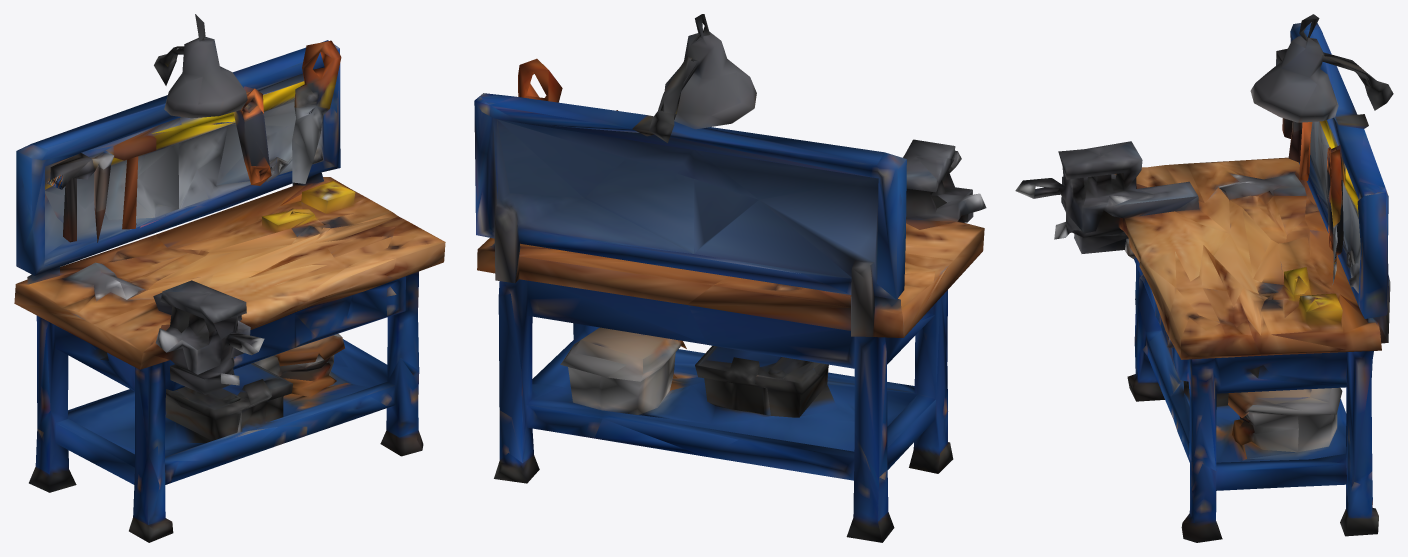
The model's file is tezgah_lod2.glb.
3 views of the same model, side by side, from view 1: azimuth 30°, elevation 25°; view 2: azimuth 150°, elevation 25°; view 3: azimuth 270°, elevation 25° (orthographic). The views are drawn at different scales.
Visible parts, largest first — view 1: tezgah_lod2; view 2: tezgah_lod2; view 3: tezgah_lod2.
Part boxes in pixels (x1,y1,x2,y2): tezgah_lod2: (14, 14, 445, 542); tezgah_lod2: (474, 14, 986, 542); tezgah_lod2: (1015, 14, 1393, 542).
Size of the model in its own units: 1.34 by 1.5 by 1.16.
Materials: 1 (1 with a texture image).
